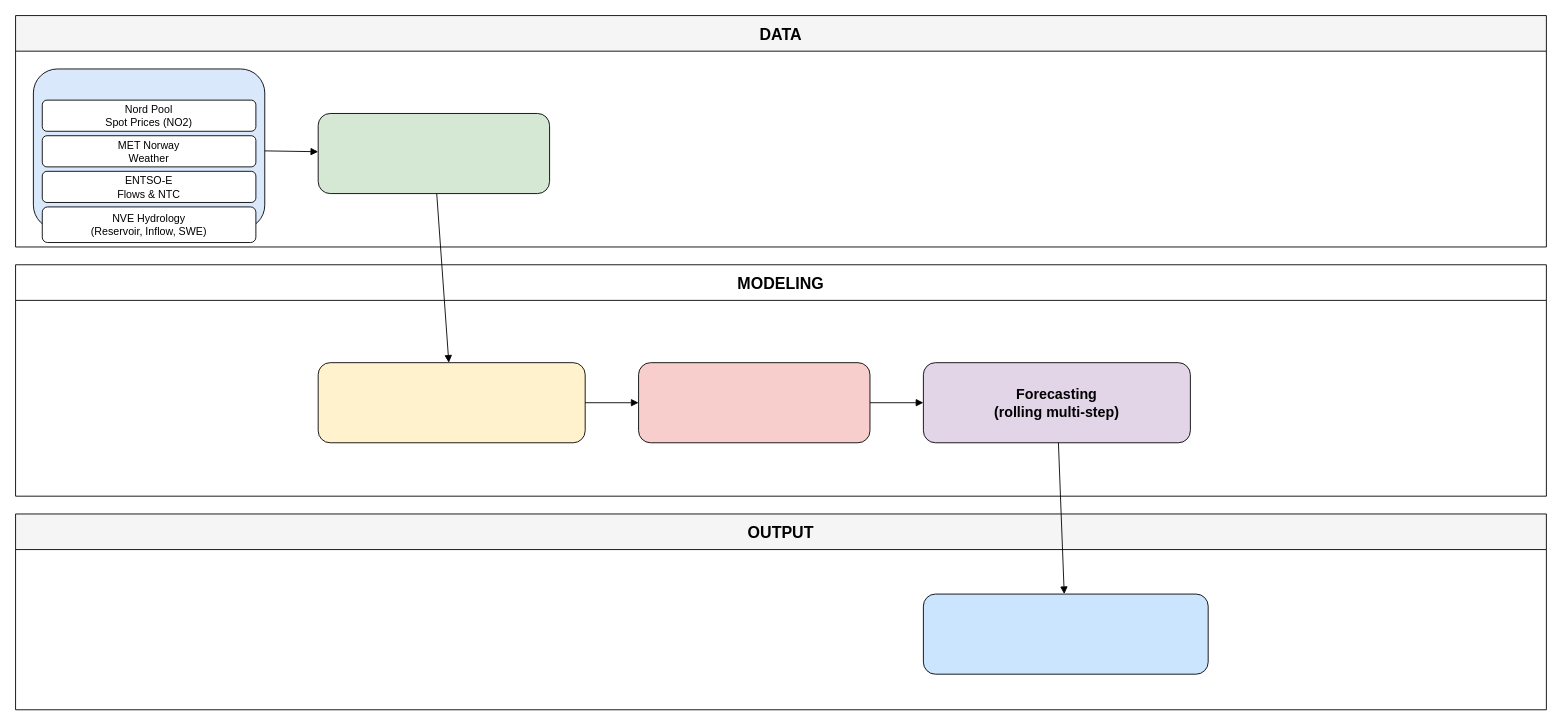
Some shapes in this 1562 by 725 pixel diagram are drawn without their labels. The centre of each missing label's shape, as x and y in pixels:
"Data Ingestion (data_loader.py)" goes at (433,153).
"Feature Engineering (lags, rolling, calendar, exogenous)" goes at (451,402).
"Model Training (CatBoost)" goes at (754,402).
"Outputs predictions_no2.csv feature_importance.csv" goes at (1065,633).
